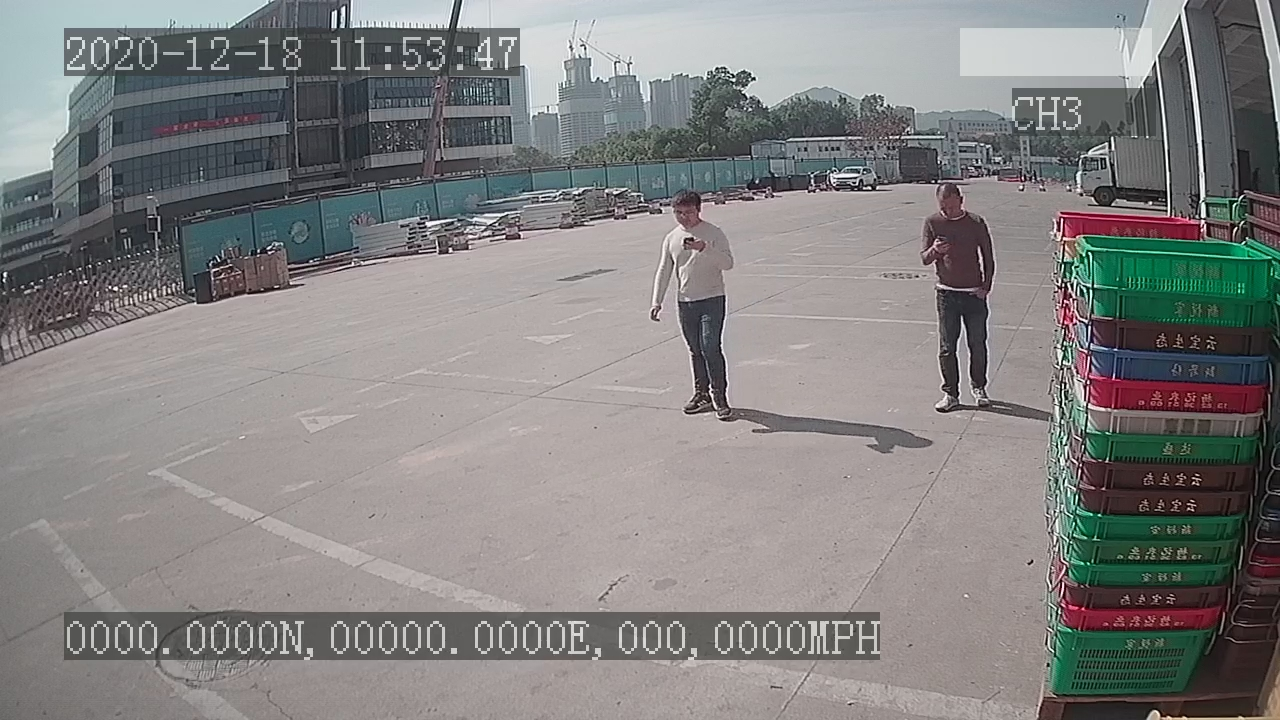person: (901, 170, 999, 422), (642, 185, 742, 429)
